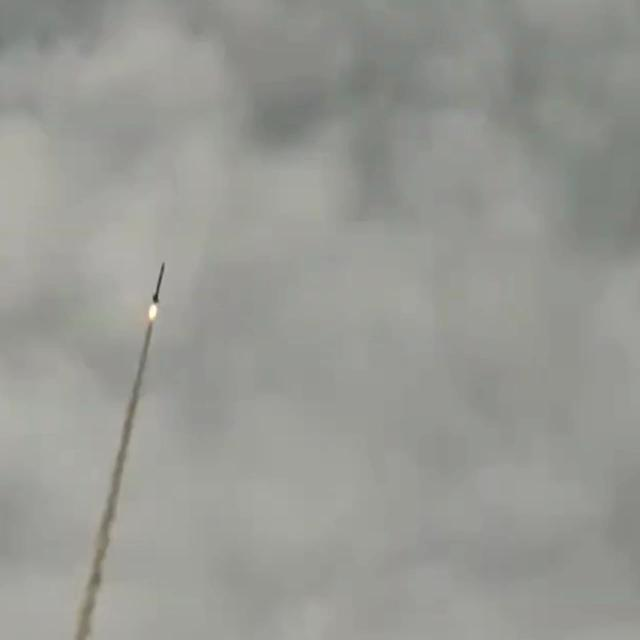smoke_trail_with_rocket: (73, 262, 166, 640)
